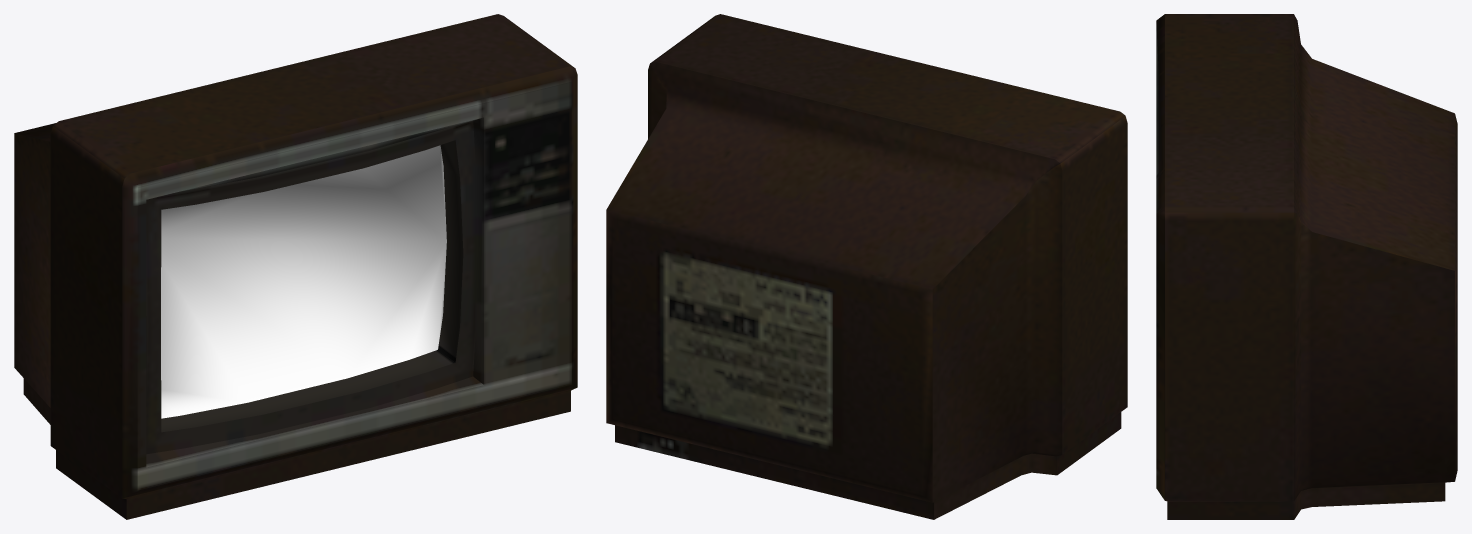
3 views of the same model, side by side, from view 1: azimuth 30°, elevation 25°; view 2: azimuth 150°, elevation 25°; view 3: azimuth 270°, elevation 25° (orthographic). The views are drawn at different scales.
Visible parts, largest first — view 1: tv_monitor01_reference; view 2: tv_monitor01_reference; view 3: tv_monitor01_reference.
Boxes of the visible parts, <box> form: tv_monitor01_reference: <box>14,14,577,519</box>; tv_monitor01_reference: <box>606,14,1127,519</box>; tv_monitor01_reference: <box>1156,14,1457,519</box>.
Size of the model in its own units: 22 by 16 by 14.
Materials: 2 (1 with a texture image).
